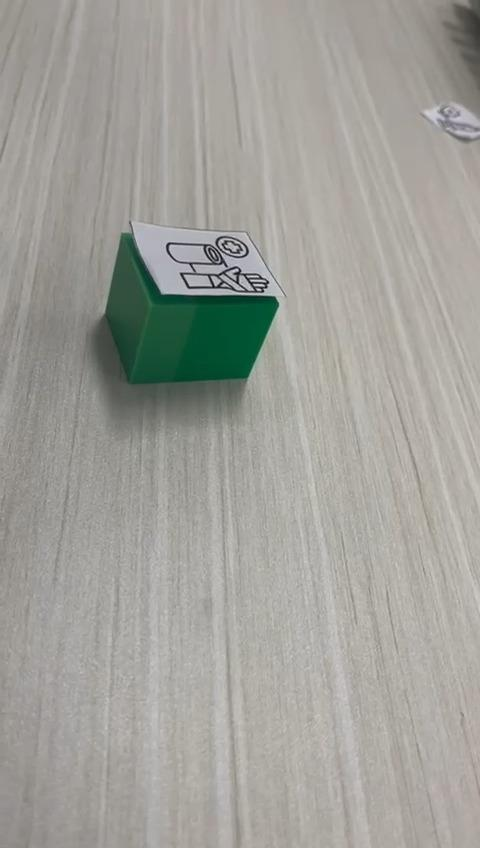Bandages: (104, 221, 287, 386)
